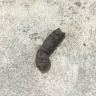Dog: (36, 28, 65, 70)
